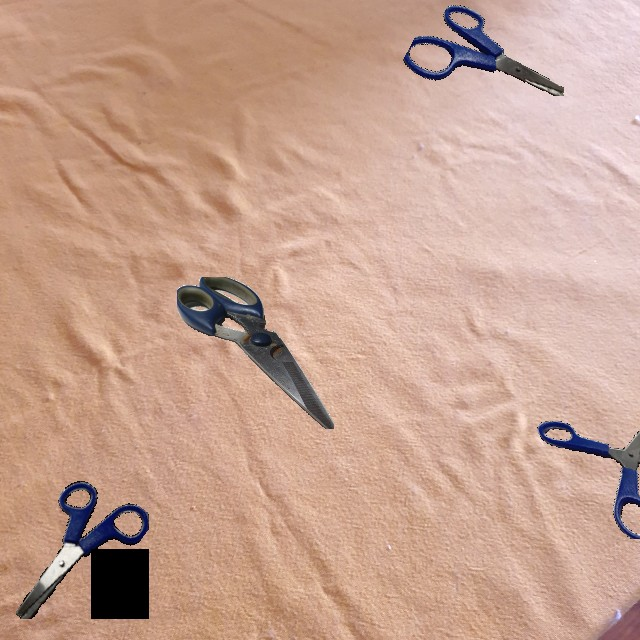scissors: (177, 277, 334, 429), (16, 481, 149, 619), (403, 5, 564, 96), (537, 421, 640, 539)
